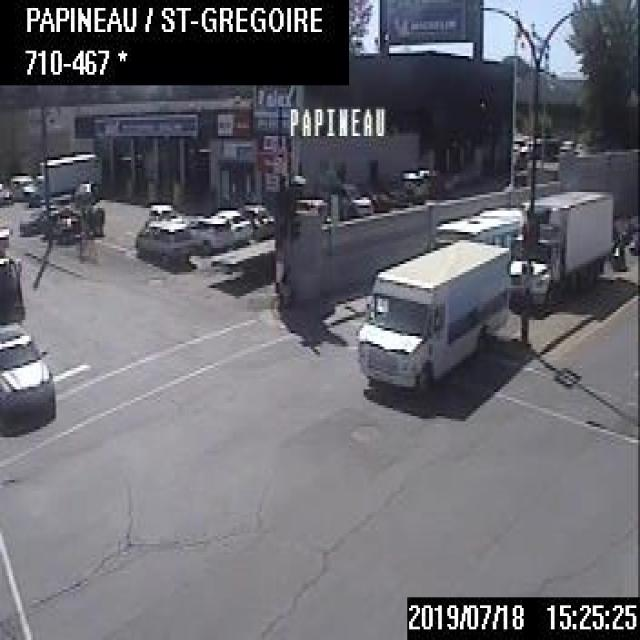bus: (436, 205, 526, 263)
vehicle: (353, 235, 507, 392), (506, 186, 613, 298), (0, 315, 55, 432), (25, 149, 101, 200), (133, 212, 191, 266), (184, 209, 226, 250), (213, 207, 251, 246), (240, 201, 274, 238), (339, 183, 370, 213), (10, 173, 40, 200), (145, 202, 185, 222)
